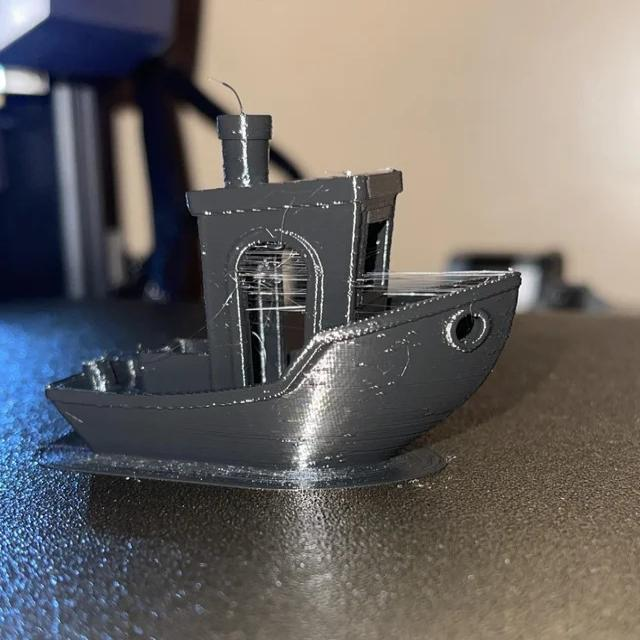stringing: (244, 251, 318, 321), (360, 264, 510, 294)
